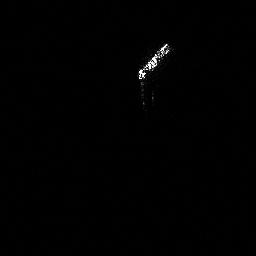ship: (133, 39, 175, 83)
